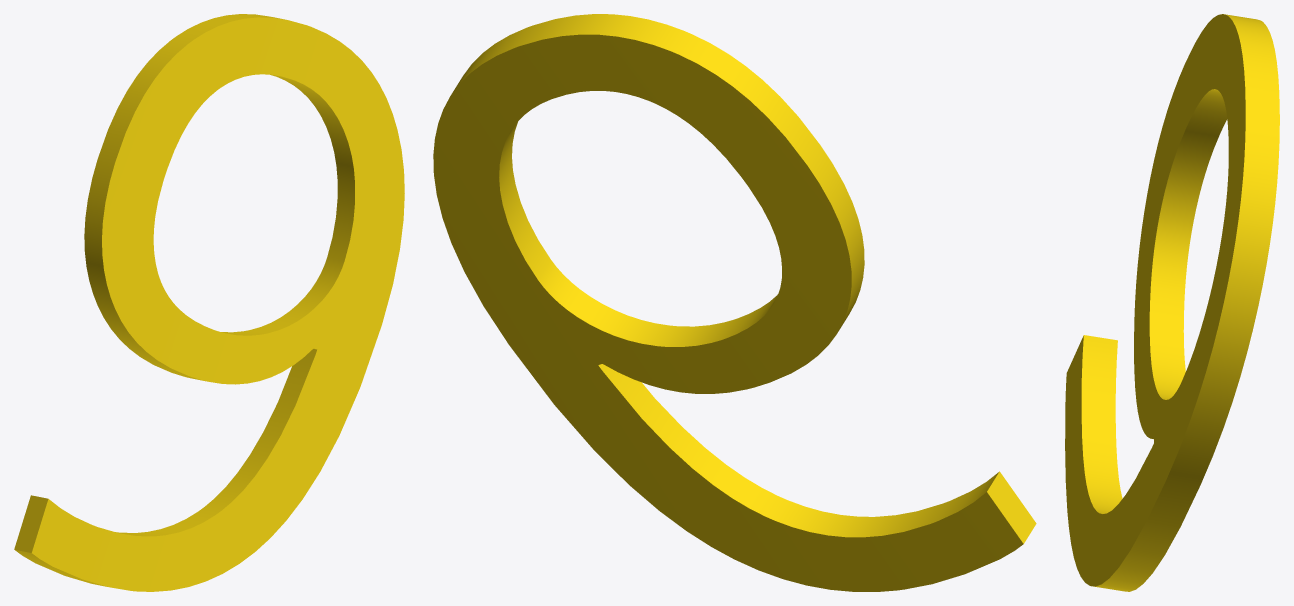
Rendered from Number_6.gltf.
The picture shows the model from 3 angles, left to right: view 1: azimuth 30°, elevation 25°; view 2: azimuth 150°, elevation 25°; view 3: azimuth 270°, elevation 25°; orthographic projection. The views are drawn at different scales.
Parts seen in each view (by area): view 1: Sub_2_Cell_2_2_Number_6; view 2: Sub_2_Cell_2_2_Number_6; view 3: Sub_2_Cell_2_2_Number_6.
Part boxes in pixels (x1,y1,x2,y2): Sub_2_Cell_2_2_Number_6: (14,14,404,591); Sub_2_Cell_2_2_Number_6: (433,14,1036,591); Sub_2_Cell_2_2_Number_6: (1065,14,1279,591).
Size of the model in its own units: 0.0218 by 0.0236 by 0.00771.
